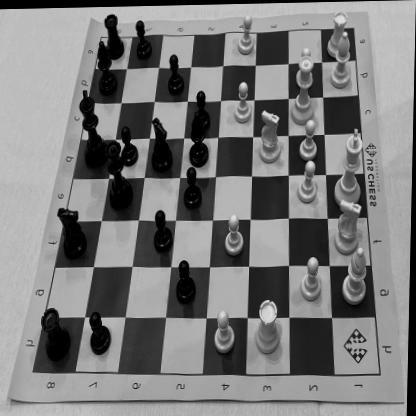black-bishop: (97, 40, 119, 95), (188, 110, 209, 164)
black-knight: (78, 86, 110, 166), (56, 202, 88, 260), (150, 116, 176, 174)
black-pawn: (90, 308, 113, 356), (176, 257, 198, 304), (184, 166, 206, 210), (154, 207, 174, 253), (192, 88, 212, 132), (121, 123, 140, 167), (167, 52, 186, 95), (135, 18, 154, 60)
black-queen: (108, 139, 131, 209)
black-rook: (40, 302, 72, 362), (102, 10, 126, 61)
white-bishop: (342, 246, 371, 306), (329, 30, 354, 90)
white-king: (334, 126, 365, 210)
white-knight: (258, 108, 283, 164)
white-pawn: (214, 308, 238, 354), (297, 158, 320, 204), (226, 208, 246, 256), (298, 119, 320, 162), (301, 257, 322, 300), (234, 80, 253, 124), (237, 13, 256, 56), (296, 46, 315, 86)
white-queen: (290, 54, 320, 126)
white-rook: (255, 297, 283, 355), (327, 11, 348, 60)
